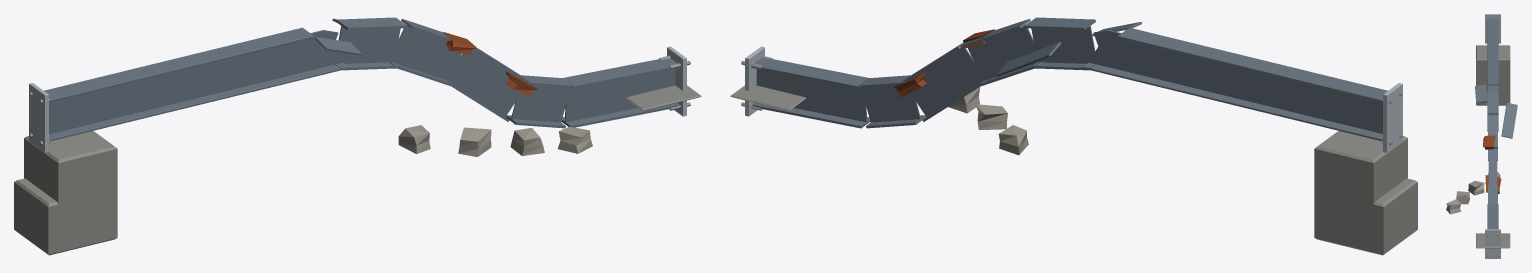
Rendered from DESTROY_10.obj.
3 renders of one model, left to right at view 1: azimuth 30°, elevation 25°; view 2: azimuth 150°, elevation 25°; view 3: azimuth 270°, elevation 25°, orthographic. The views are drawn at different scales.
Visible parts, largest first — view 1: DESTROY_10__far_beam, DESTROY_10__support_blocks, DESTROY_10__near_web, DESTROY_10__near_flange_top, DESTROY_10__debris, DESTROY_10__near_flange_bottom, DESTROY_10__end_plate_near, DESTROY_10__far_crumple, DESTROY_10__end_plate_far, DESTROY_10__near_tear_flap; view 2: DESTROY_10__far_beam, DESTROY_10__support_blocks, DESTROY_10__near_web, DESTROY_10__near_flange_top, DESTROY_10__near_flange_bottom, DESTROY_10__debris, DESTROY_10__end_plate_near, DESTROY_10__far_flange_peeled, DESTROY_10__end_plate_far, DESTROY_10__far_crumple, DESTROY_10__near_web_tear; view 3: DESTROY_10__support_blocks, DESTROY_10__far_beam, DESTROY_10__near_flange_top, DESTROY_10__debris, DESTROY_10__end_plate_far, DESTROY_10__far_flange_peeled, DESTROY_10__far_crumple, DESTROY_10__end_plate_near, DESTROY_10__near_tear_flap, DESTROY_10__near_flange_bottom.
Boxes of the visible parts, bbox=[...] form: DESTROY_10__far_beam: bbox=[335, 17, 680, 128]; DESTROY_10__support_blocks: bbox=[14, 85, 701, 255]; DESTROY_10__near_web: bbox=[49, 30, 323, 133]; DESTROY_10__near_flange_top: bbox=[44, 27, 314, 102]; DESTROY_10__debris: bbox=[398, 125, 592, 156]; DESTROY_10__near_flange_bottom: bbox=[49, 62, 348, 141]; DESTROY_10__end_plate_near: bbox=[29, 83, 48, 152]; DESTROY_10__far_crumple: bbox=[443, 32, 538, 96]; DESTROY_10__end_plate_far: bbox=[667, 46, 686, 116]; DESTROY_10__near_tear_flap: bbox=[314, 37, 361, 55]; DESTROY_10__far_beam: bbox=[751, 17, 1096, 128]; DESTROY_10__support_blocks: bbox=[730, 85, 1417, 255]; DESTROY_10__near_web: bbox=[1108, 30, 1382, 133]; DESTROY_10__near_flange_top: bbox=[1117, 27, 1387, 102]; DESTROY_10__near_flange_bottom: bbox=[1083, 62, 1382, 141]; DESTROY_10__debris: bbox=[948, 87, 1028, 155]; DESTROY_10__end_plate_near: bbox=[1383, 83, 1402, 152]; DESTROY_10__far_flange_peeled: bbox=[996, 42, 1061, 76]; DESTROY_10__end_plate_far: bbox=[745, 46, 764, 116]; DESTROY_10__far_crumple: bbox=[894, 29, 994, 97]; DESTROY_10__near_web_tear: bbox=[1093, 30, 1108, 67]; DESTROY_10__support_blocks: bbox=[1476, 45, 1510, 248]; DESTROY_10__far_beam: bbox=[1487, 92, 1498, 229]; DESTROY_10__near_flange_top: bbox=[1487, 19, 1498, 85]; DESTROY_10__debris: bbox=[1446, 172, 1500, 214]; DESTROY_10__end_plate_far: bbox=[1485, 229, 1500, 258]; DESTROY_10__far_flange_peeled: bbox=[1501, 102, 1517, 138]; DESTROY_10__far_crumple: bbox=[1483, 135, 1501, 193]; DESTROY_10__end_plate_near: bbox=[1485, 14, 1500, 43]; DESTROY_10__near_tear_flap: bbox=[1475, 84, 1487, 103]; DESTROY_10__near_flange_bottom: bbox=[1487, 85, 1498, 92].
Size of the model in its own units: 6.6 by 1.71 by 1.26.
